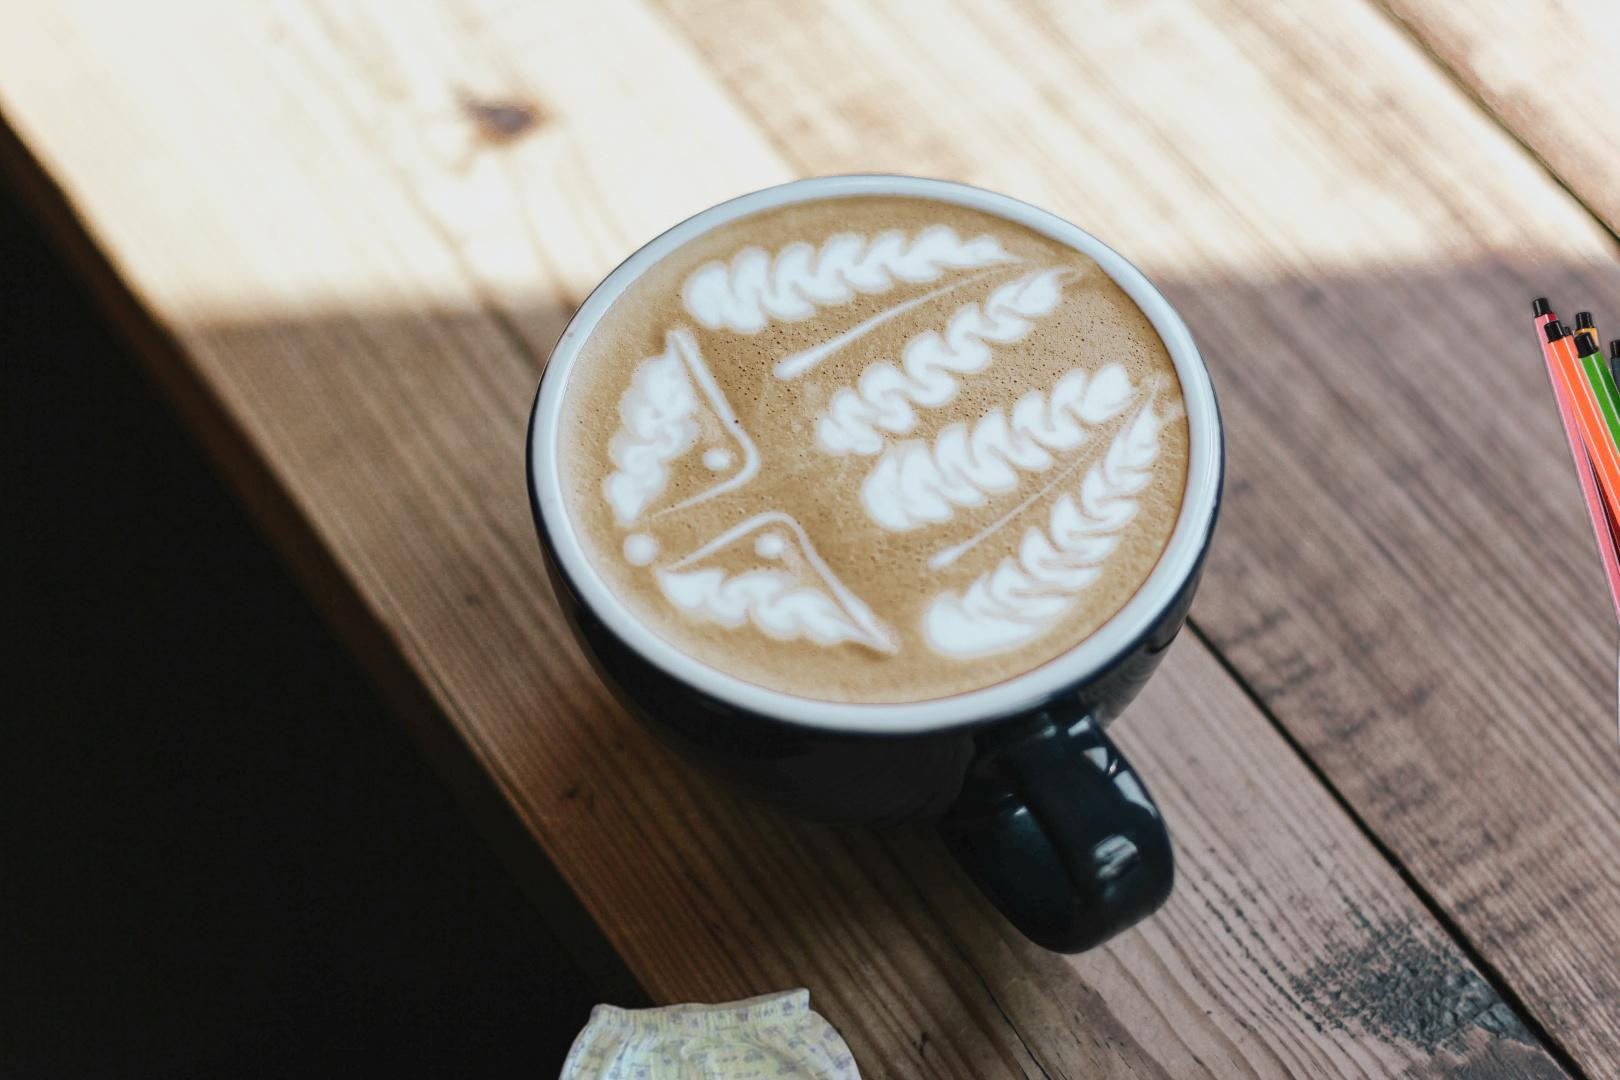clothes: (541, 980, 909, 1080)
penholder: (1525, 290, 1620, 961)
